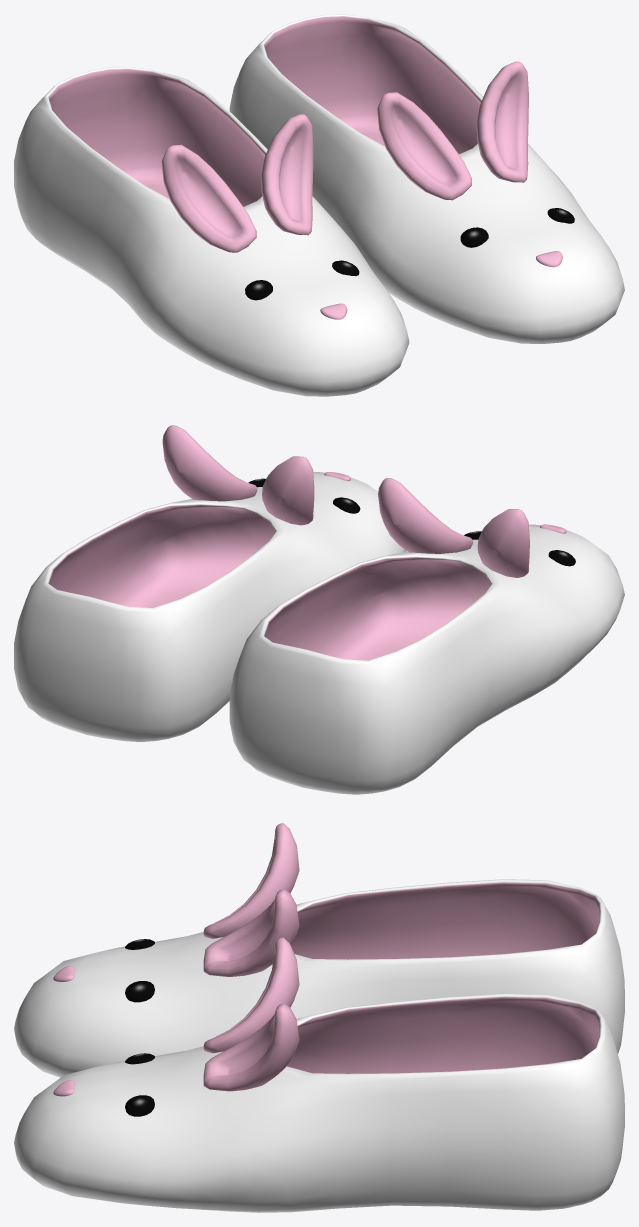
Rendered from Bedroom_Slipper.FBX.
The picture shows the model from 3 angles, top to bottom: view 1: azimuth 30°, elevation 25°; view 2: azimuth 150°, elevation 25°; view 3: azimuth 270°, elevation 25°; orthographic projection. The views are drawn at different scales.
Parts seen in each view (by area): view 1: Bedroom_Left_Slipper, Bedroom_Right_Slipper; view 2: Bedroom_Left_Slipper, Bedroom_Right_Slipper; view 3: Bedroom_Right_Slipper, Bedroom_Left_Slipper.
Boxes of the visible parts, x1=… form: Bedroom_Left_Slipper: x1=14, y1=67, x2=409, y2=396; Bedroom_Right_Slipper: x1=229, y1=14, x2=624, y2=343; Bedroom_Left_Slipper: x1=229, y1=478, x2=624, y2=794; Bedroom_Right_Slipper: x1=14, y1=425, x2=406, y2=741; Bedroom_Right_Slipper: x1=14, y1=937, x2=624, y2=1212; Bedroom_Left_Slipper: x1=14, y1=823, x2=624, y2=1077.
Bounding box in the file's own units: 16.62 × 7.13 × 19.29.
Materials: 1 (1 with a texture image).
